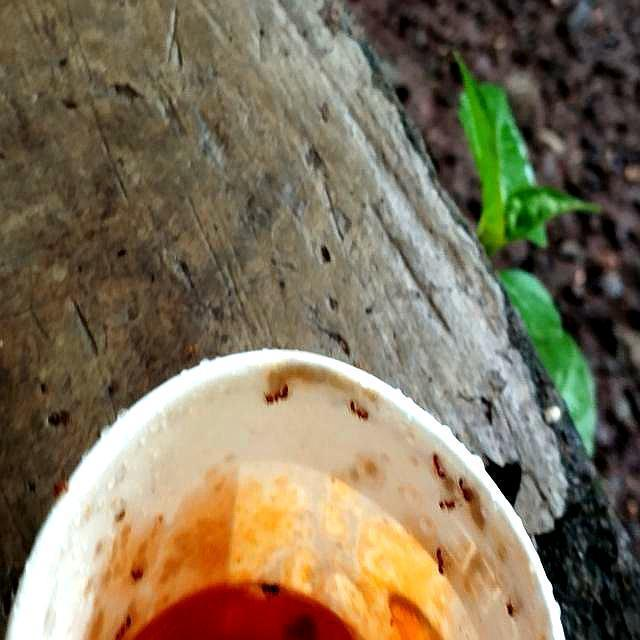Biodegradable: (7, 349, 565, 640)
